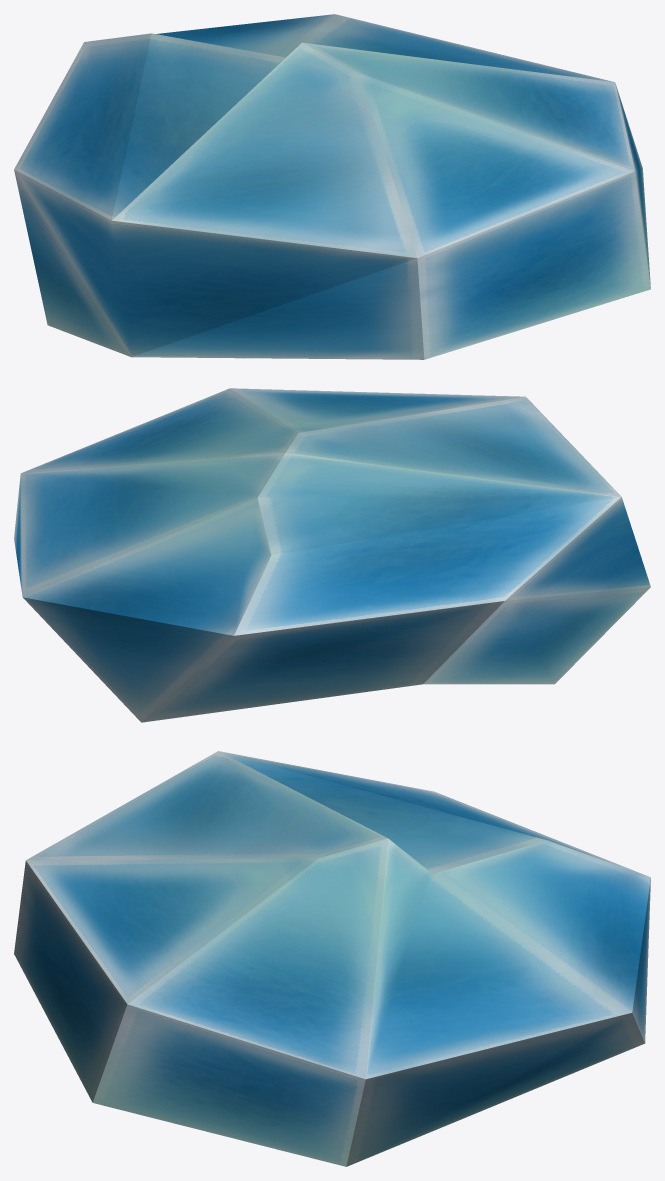
Rendered from Gems_3.fbx.
The picture shows the model from 3 angles, top to bottom: view 1: azimuth 30°, elevation 25°; view 2: azimuth 150°, elevation 25°; view 3: azimuth 270°, elevation 25°; orthographic projection. The views are drawn at different scales.
Parts seen in each view (by area): view 1: Gems_1; view 2: Gems_1; view 3: Gems_1.
Boxes of the visible parts, <box> form: Gems_1: <box>14,14,650,359</box>; Gems_1: <box>14,388,650,722</box>; Gems_1: <box>14,751,650,1166</box>.
Size of the model in its own units: 1.98 by 0.7428 by 1.89.
